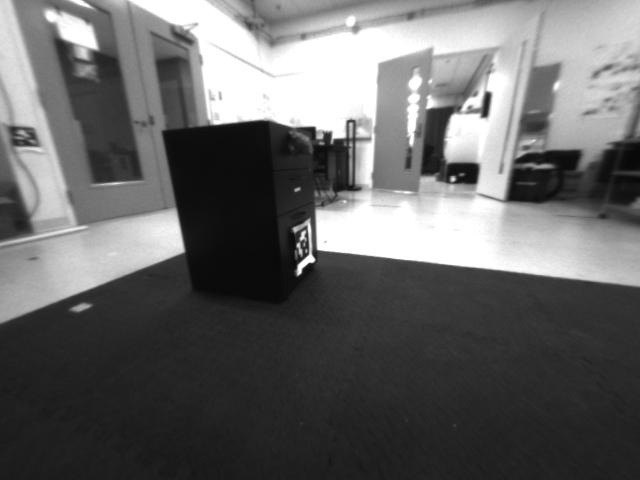door_handle: (128, 114, 149, 131)
drawer: (279, 126, 319, 161)
